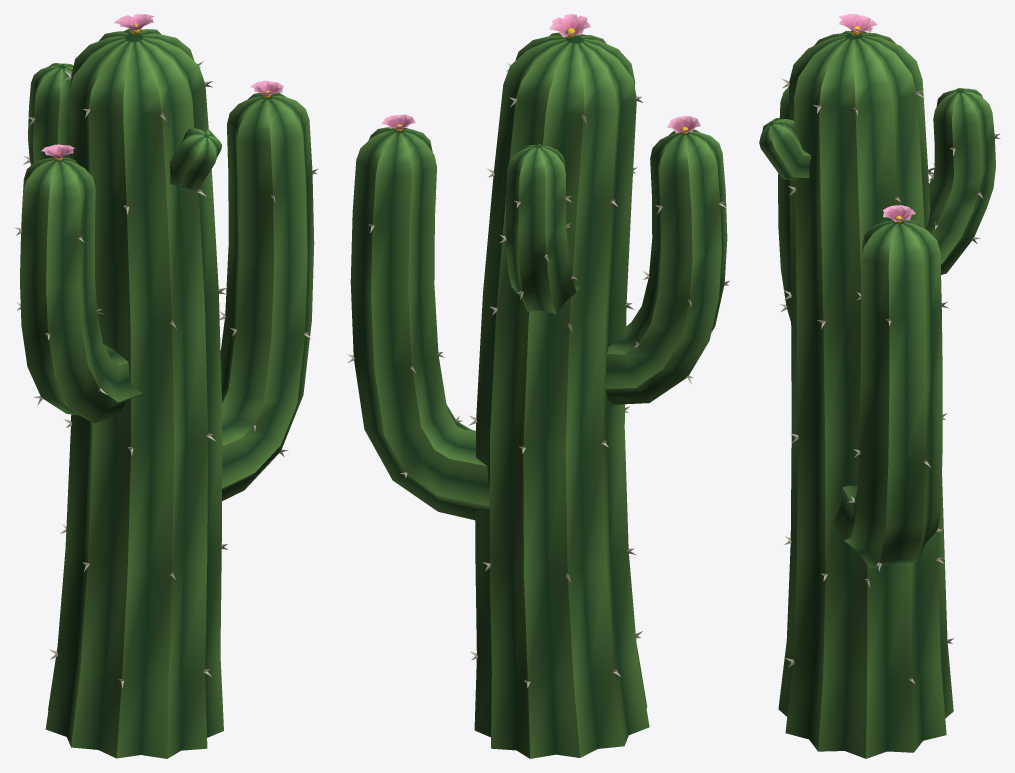
File: cactus_tall.glb
The picture shows the model from 3 angles, left to right: view 1: azimuth 30°, elevation 25°; view 2: azimuth 150°, elevation 25°; view 3: azimuth 270°, elevation 25°; orthographic projection. The views are drawn at different scales.
Visible parts, largest first — view 1: cactus_tall; view 2: cactus_tall; view 3: cactus_tall.
Boxes of the visible parts, bbox=[...] form: cactus_tall: bbox=[14, 14, 318, 758]; cactus_tall: bbox=[347, 14, 730, 758]; cactus_tall: bbox=[759, 14, 1000, 758].
Bounding box in the file's own units: 1.68 × 3.4 × 1.06.
